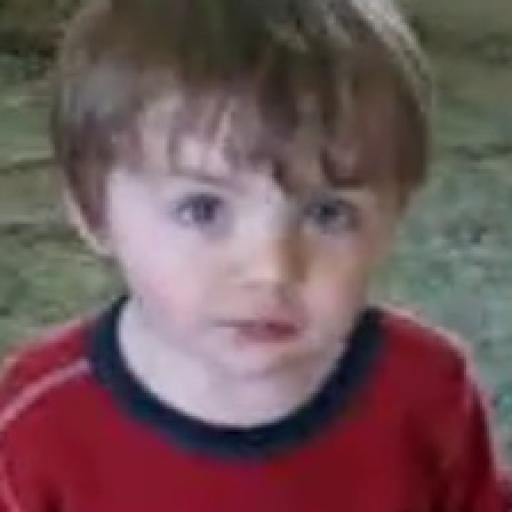Autism: (35, 0, 433, 401)
